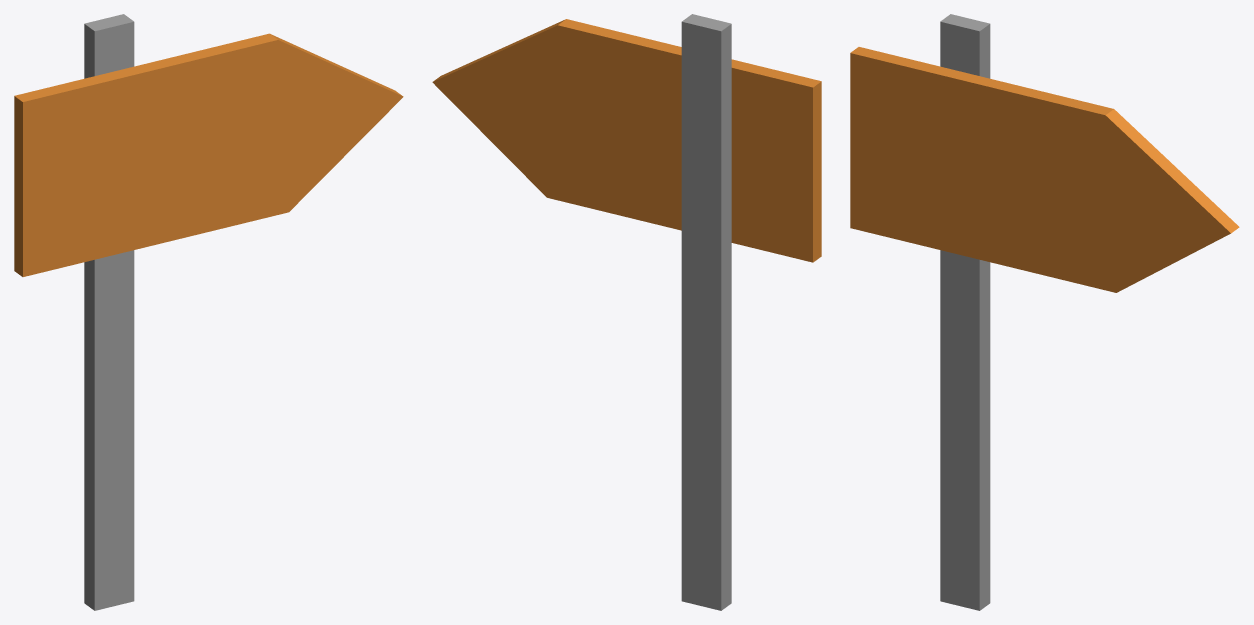
Rendered from fleche.fbx.
3 renders of one model, left to right at view 1: azimuth 30°, elevation 25°; view 2: azimuth 150°, elevation 25°; view 3: azimuth 330°, elevation 25°, orthographic.
Visible parts, largest first — view 1: Cube.002, Cube.001; view 2: Cube.002, Cube.001; view 3: Cube.002, Cube.001.
Boxes of the visible parts, <box> form: Cube.002: <box>14,33,403,276</box>; Cube.001: <box>84,14,134,610</box>; Cube.002: <box>432,19,821,262</box>; Cube.001: <box>681,14,731,610</box>; Cube.002: <box>850,47,1239,292</box>; Cube.001: <box>940,14,990,610</box>.
Size of the model in its own units: 835 by 1214 by 74.07.
